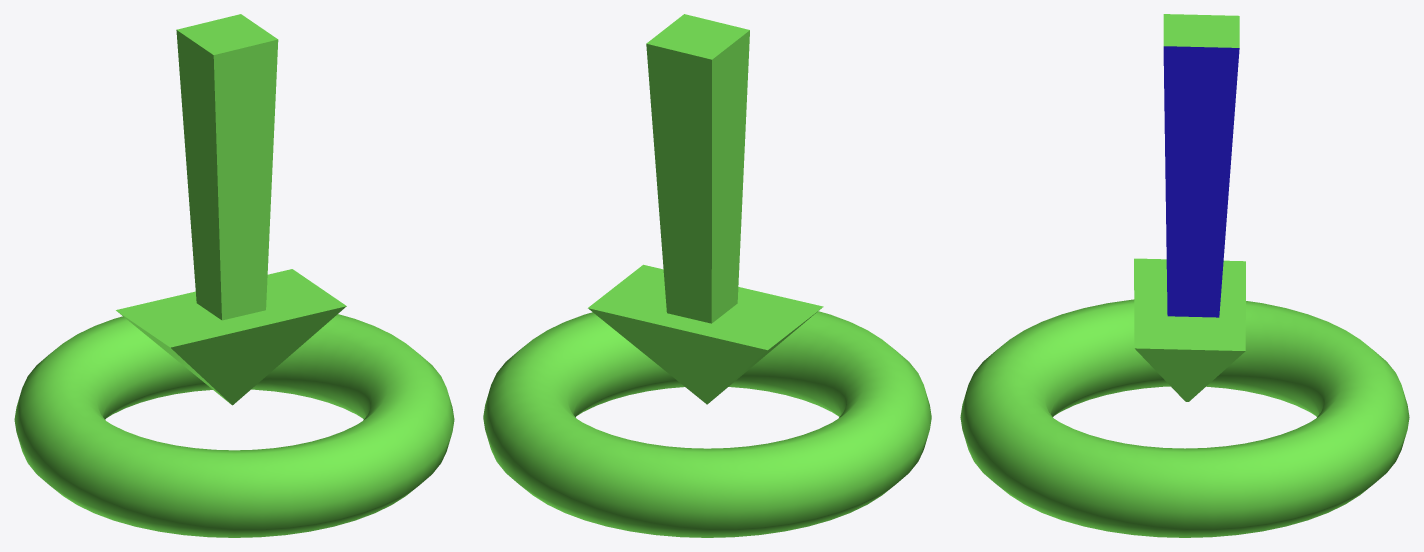
The model's file is spawn-point.glb.
The picture shows the model from 3 angles, left to right: view 1: azimuth 30°, elevation 25°; view 2: azimuth 150°, elevation 25°; view 3: azimuth 270°, elevation 25°; orthographic projection. The views are drawn at different scales.
Parts seen in each view (by area): view 1: Plane; view 2: Plane; view 3: Plane.
Boxes of the visible parts, box(x1,y1,x2,y2) form: Plane: box(14, 14, 454, 537); Plane: box(483, 14, 931, 537); Plane: box(960, 14, 1409, 537).
Bounding box in the file's own units: 2.5 × 2.63 × 2.5.
